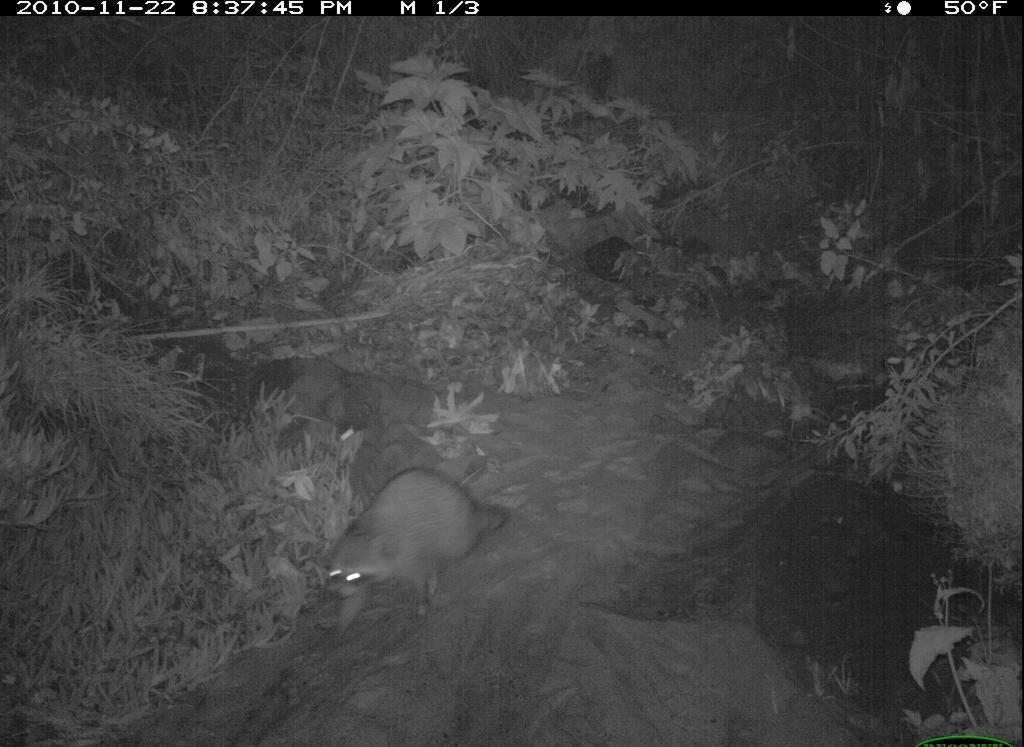raccoon: (313, 465, 528, 634)
